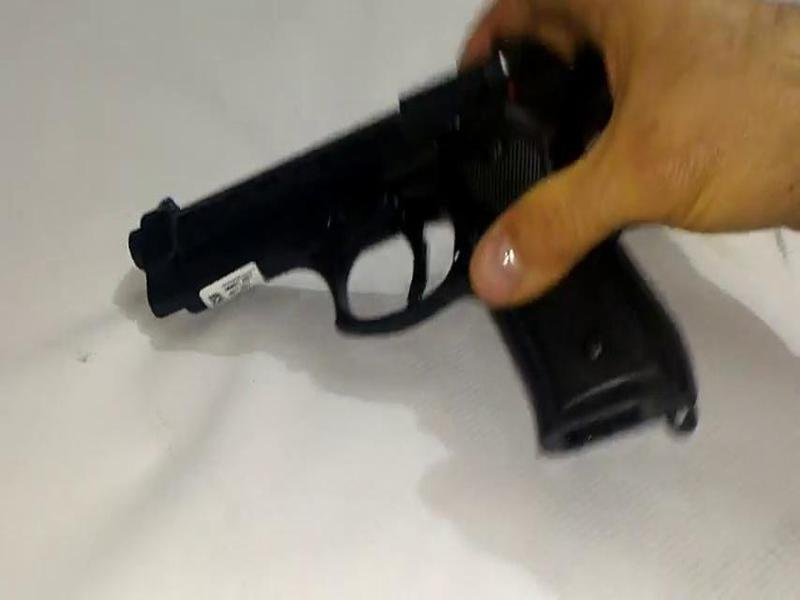Pistola: (105, 32, 715, 465)
